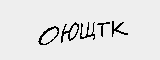К: (109, 18, 127, 39)
О: (33, 25, 59, 46)
Т: (97, 19, 109, 39)
Щ: (78, 22, 98, 41)
Ю: (59, 20, 79, 44)
